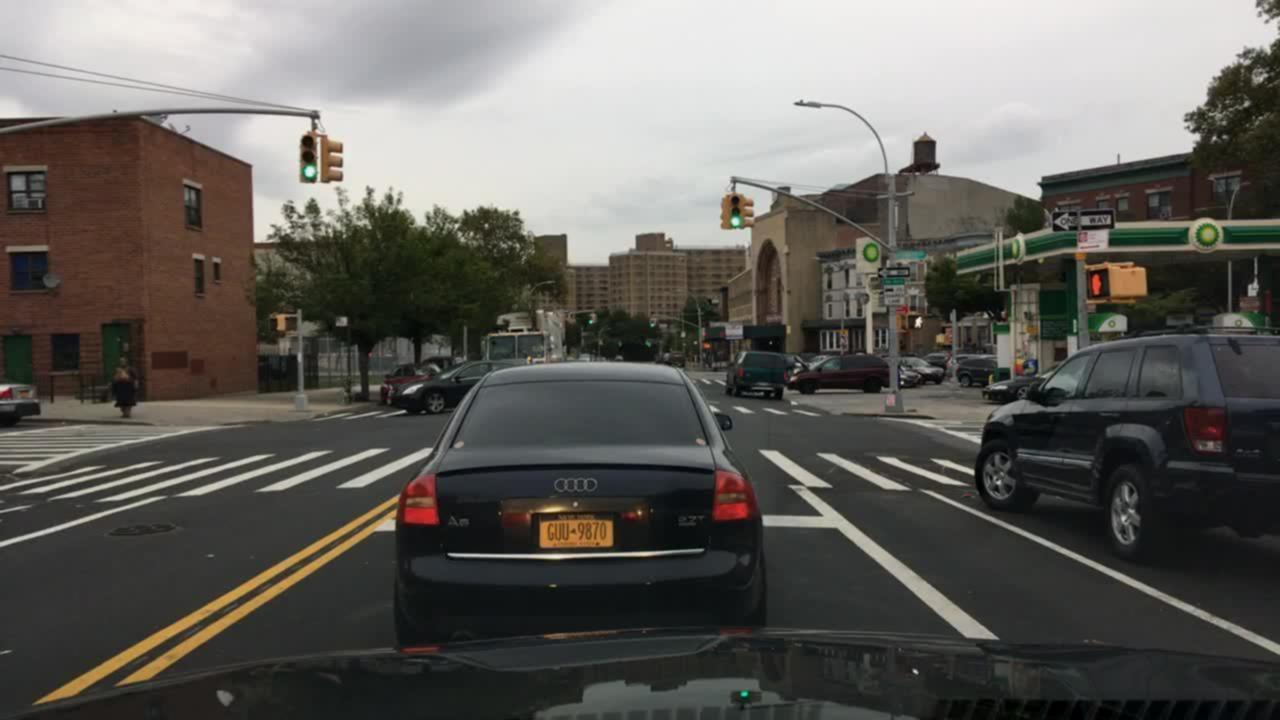Audi: (541, 465, 618, 505)
